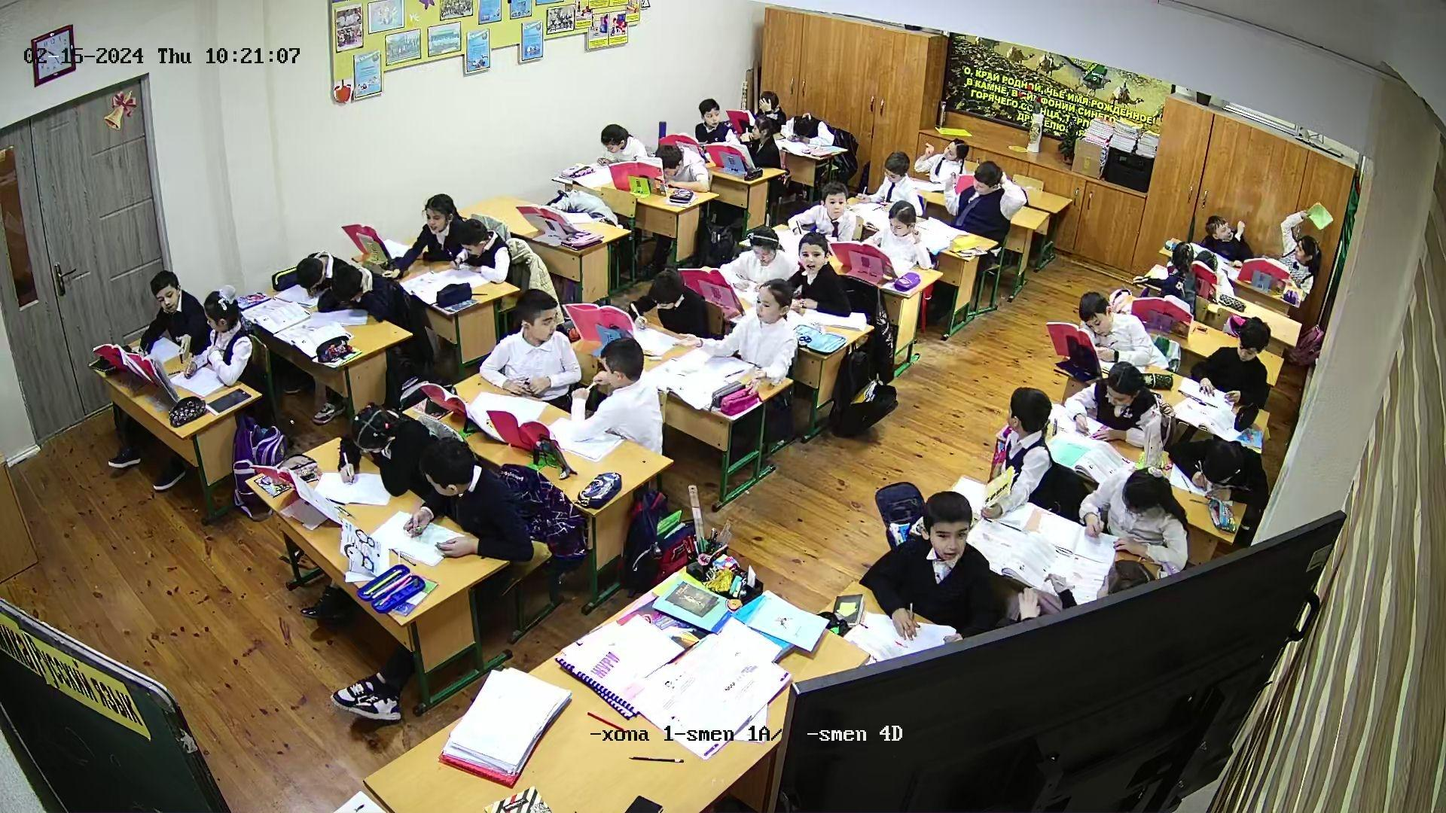Bend Over The Desk: (1071, 293, 1164, 377), (334, 261, 382, 322), (281, 247, 329, 297)
Look Around: (581, 328, 658, 461), (497, 285, 571, 405), (993, 387, 1051, 512)
Normal: (320, 395, 414, 497), (1208, 313, 1280, 420)
